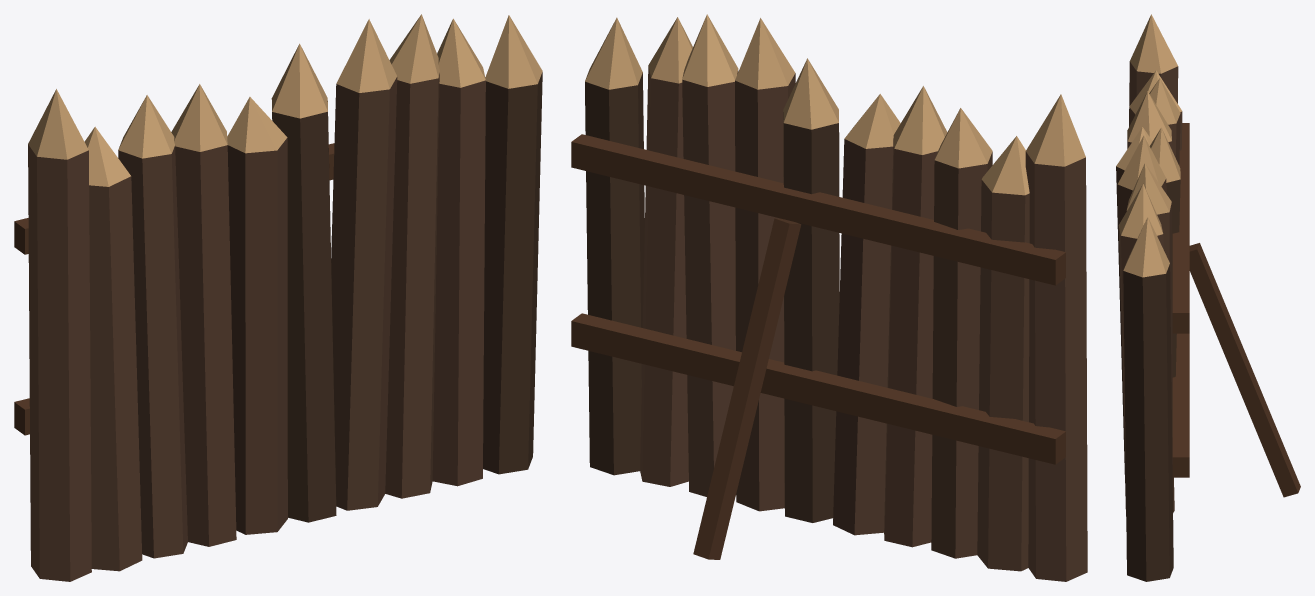
File: Palisade_Segment_A.fbx
The picture shows the model from 3 angles, left to right: view 1: azimuth 30°, elevation 25°; view 2: azimuth 150°, elevation 25°; view 3: azimuth 270°, elevation 25°; orthographic projection. The views are drawn at different scales.
Visible parts, largest first — view 1: Palisade_Segment_A; view 2: Palisade_Segment_A; view 3: Palisade_Segment_A.
Part boxes in pixels (left/top/right/bottom): Palisade_Segment_A: left=14, top=14, right=542, bottom=581; Palisade_Segment_A: left=571, top=14, right=1087, bottom=581; Palisade_Segment_A: left=1116, top=14, right=1300, bottom=581.
Size of the model in its own units: 4.08 by 3.73 by 1.63.
